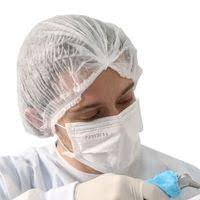with_mask_and_cap: (18, 15, 140, 172)
